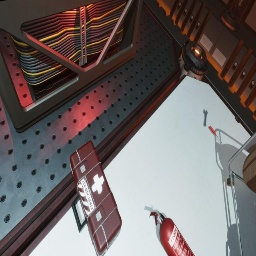FireExtinguisher ]: (150, 210, 195, 256)
FirstAidBox ,: (70, 140, 122, 256)
